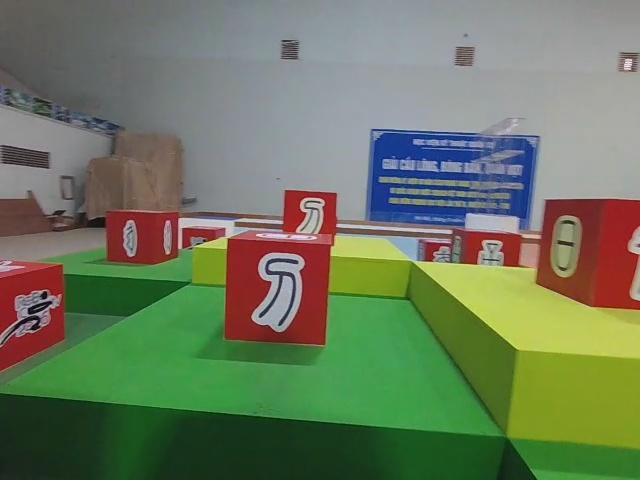R1: (0, 259, 67, 377)
R2 Fake: (225, 229, 331, 349), (535, 198, 640, 309), (283, 190, 336, 249)
R2 Real: (105, 210, 179, 268), (452, 230, 521, 279)
